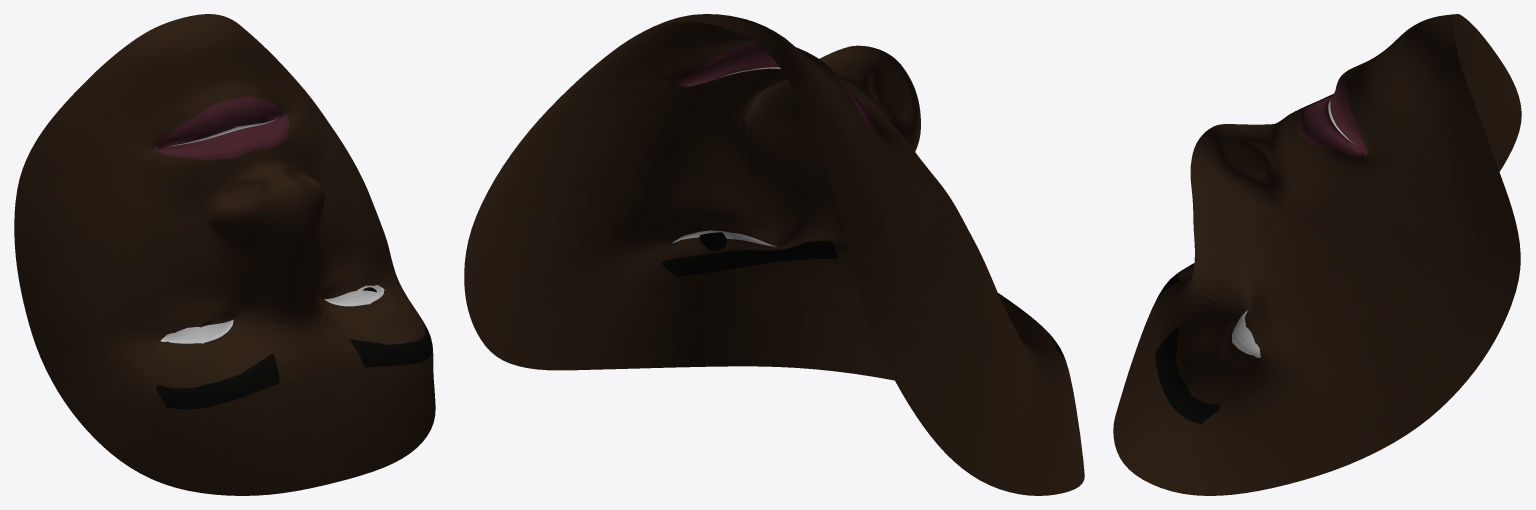
Rendered from VID-20250515-WA0003_f_00159.obj.
The picture shows the model from 3 angles, left to right: view 1: azimuth 30°, elevation 25°; view 2: azimuth 150°, elevation 25°; view 3: azimuth 270°, elevation 25°; orthographic projection. The views are drawn at different scales.
Parts seen in each view (by area): view 1: face_mesh_subdivided; view 2: face_mesh_subdivided; view 3: face_mesh_subdivided.
Part boxes in pixels (x1,y1,x2,y2): face_mesh_subdivided: (14,14,435,495); face_mesh_subdivided: (464,14,1084,495); face_mesh_subdivided: (1113,14,1521,495).
Size of the model in its own units: 0.528 by 0.542 by 0.4956.
